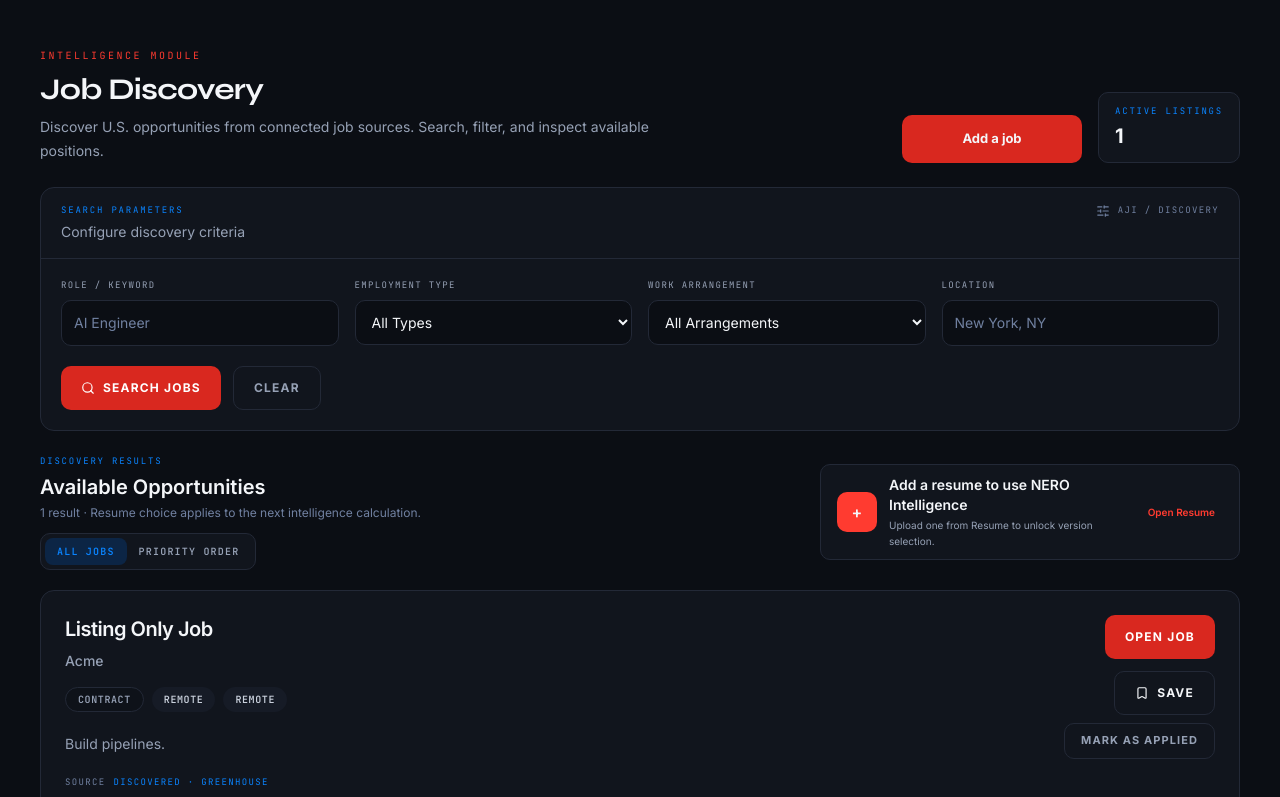
Scenario: Jobs page — Priority view (AJI-025) › asks for a resume instead of ranking when there is none
Expected: the heading "Listing Only Job" is shown, [65,616,213,640]
Click the button "Priority order".
click(189, 551)  # box [127,538,251,564]
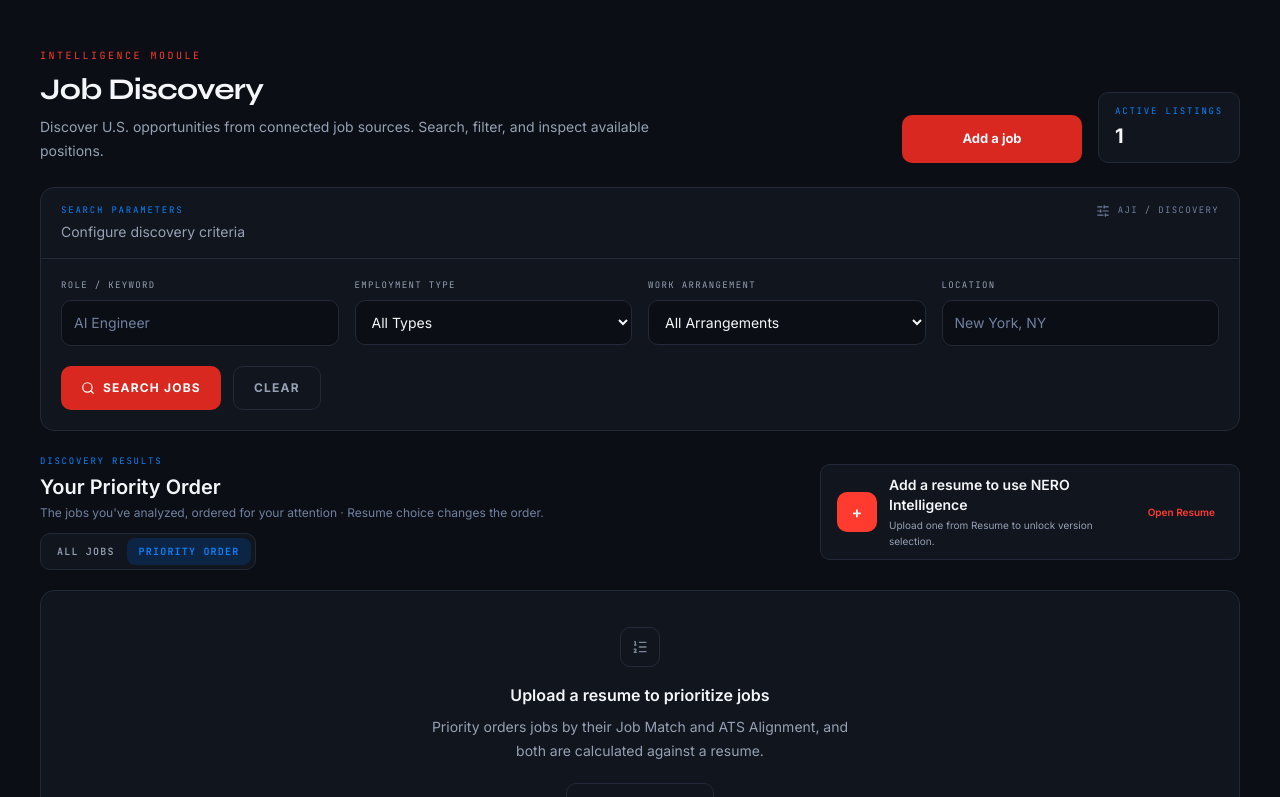
Expected: the heading "Upload a resume to prioritize jobs" is shown, [510,684,770,704]
